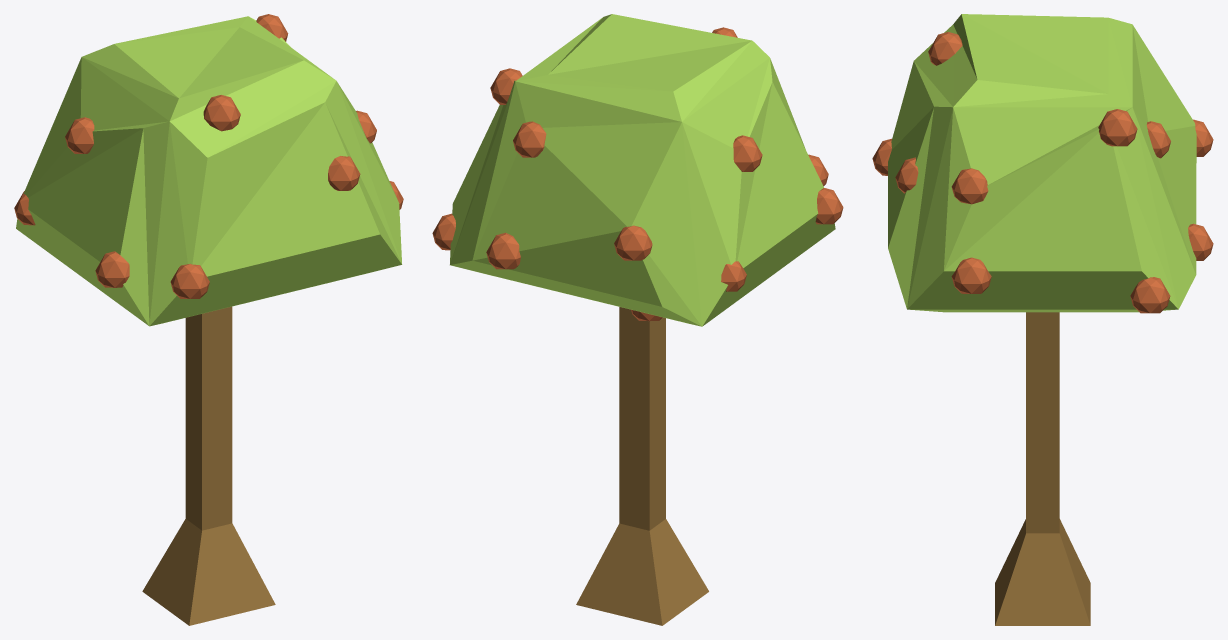
The model's file is tree.fbx.
3 views of the same model, side by side, from view 1: azimuth 30°, elevation 25°; view 2: azimuth 150°, elevation 25°; view 3: azimuth 270°, elevation 25° (orthographic).
Visible parts, largest first — view 1: Cube_20; view 2: Cube_20; view 3: Cube_20.
Part boxes in pixels (box(x1,y1,x2,y2)): Cube_20: box(14, 14, 403, 625); Cube_20: box(432, 14, 843, 625); Cube_20: box(872, 14, 1213, 625).
Size of the model in its own units: 172 by 290 by 162.
